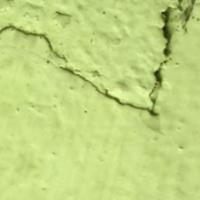crack: (3, 6, 199, 119)
